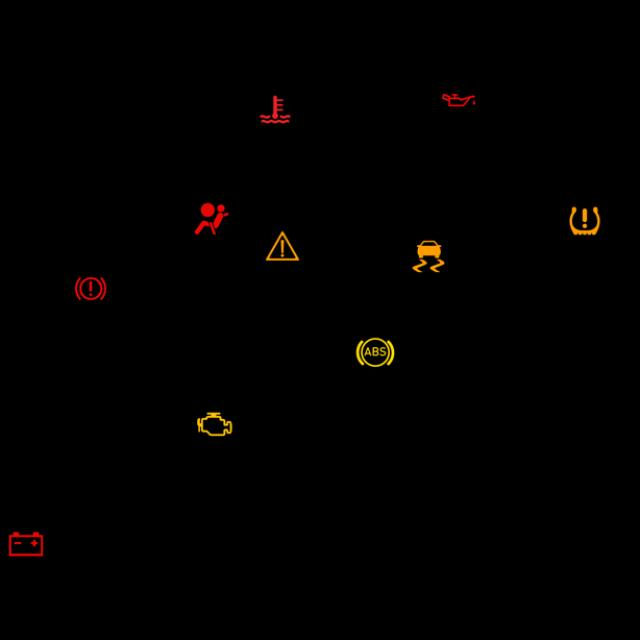Anti Lock Braking System: (354, 332, 396, 374)
Braking System Issue: (70, 268, 112, 310)
Charging System Issue: (5, 523, 47, 565)
Check Engine: (193, 403, 236, 445)
Electronic Stability Problem -ESP-: (408, 235, 450, 278)
Engine Overheating Warning Light: (254, 88, 296, 130)
Low Engine Oil Warning Light: (438, 79, 480, 121)
Low Tire Pressure Warning Light: (564, 200, 606, 242)
Master warning light: (262, 225, 304, 267)
SRS-Airbag: (190, 198, 232, 240)
